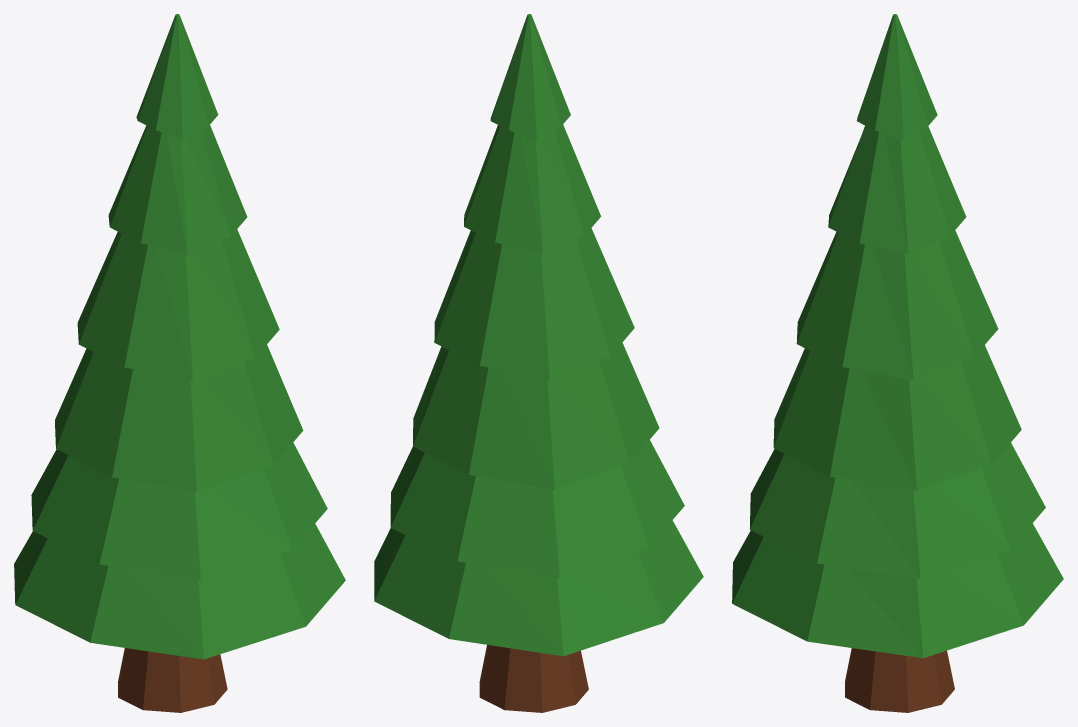
The model's file is arbol.glb.
3 views of the same model, side by side, from view 1: azimuth 30°, elevation 25°; view 2: azimuth 150°, elevation 25°; view 3: azimuth 270°, elevation 25° (orthographic).
Visible parts, largest first — view 1: Cylinder; view 2: Cylinder; view 3: Cylinder.
Boxes of the visible parts, left/top/right/bottom form: Cylinder: left=14, top=14, right=345, bottom=712; Cylinder: left=374, top=14, right=703, bottom=712; Cylinder: left=732, top=14, right=1063, bottom=712.
Size of the model in its own units: 2.31 by 5.12 by 2.28.
